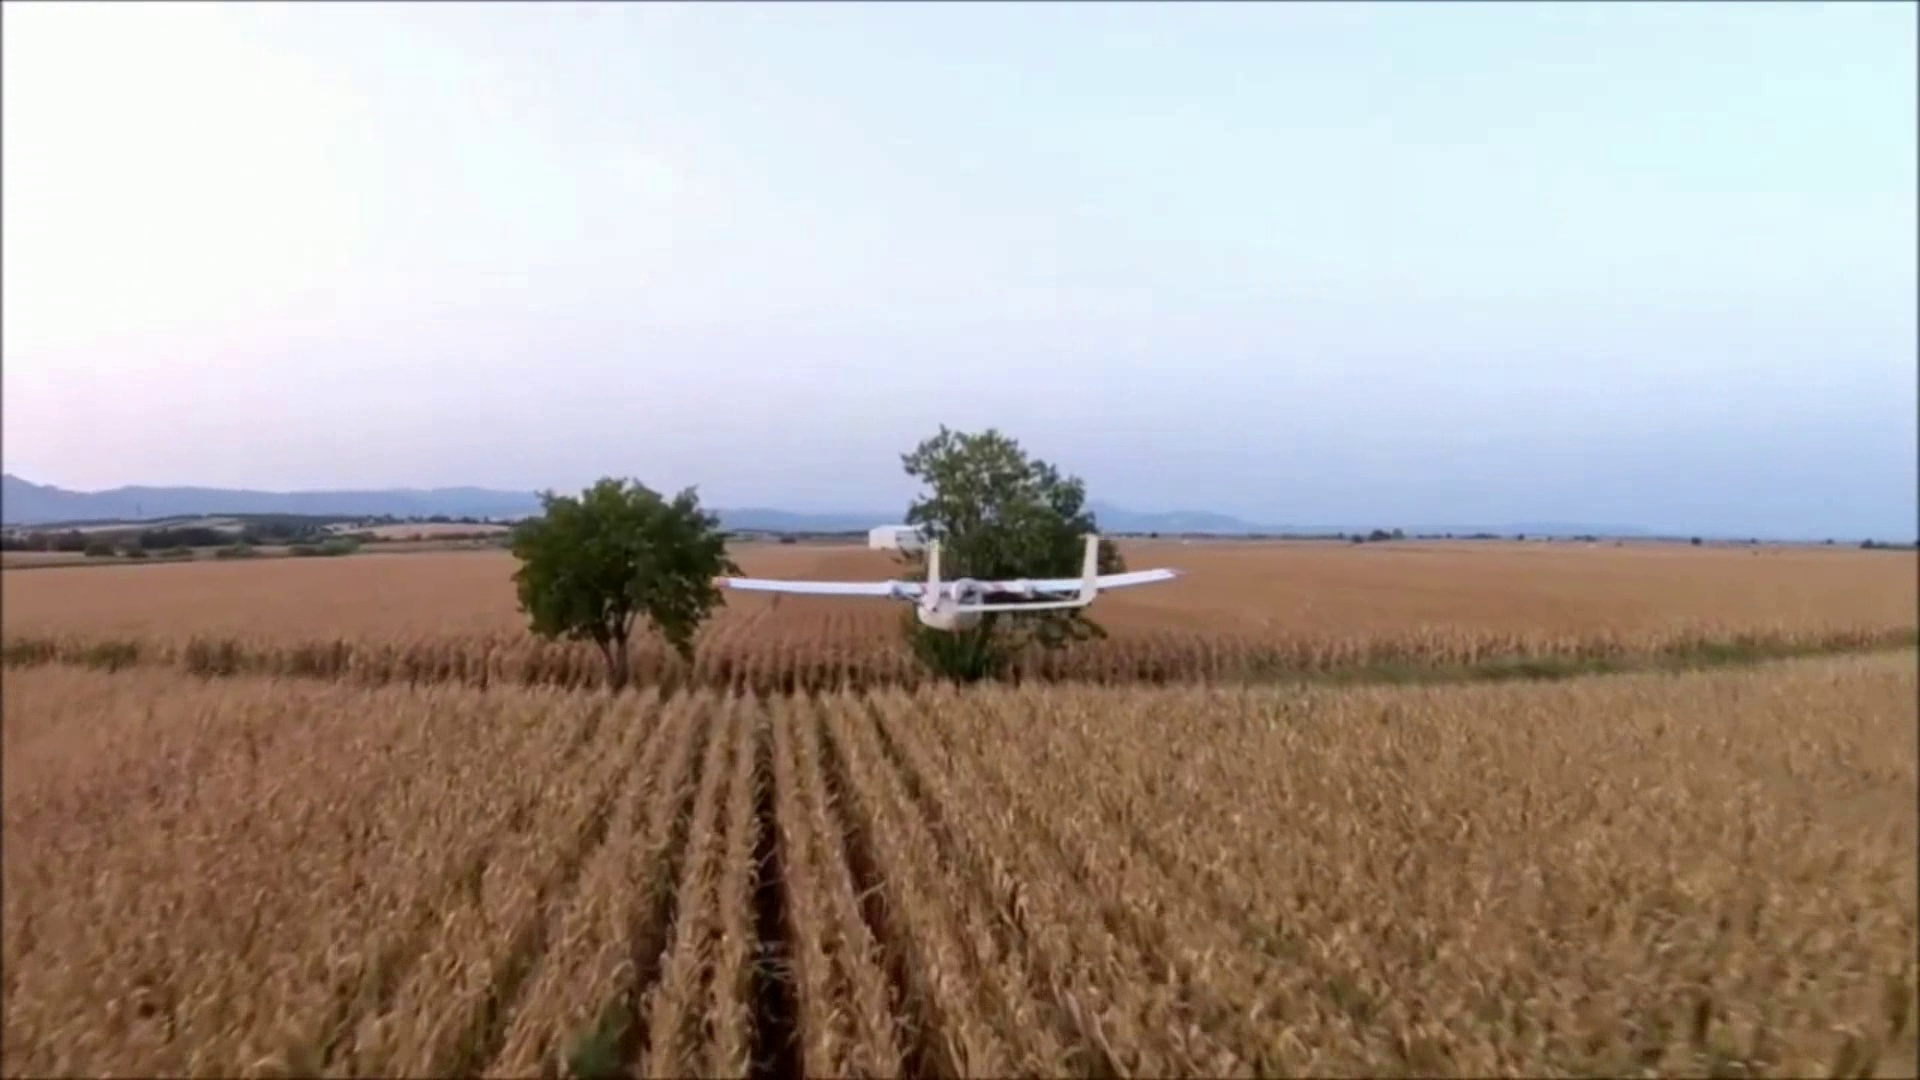airplane: (709, 539, 1182, 636)
